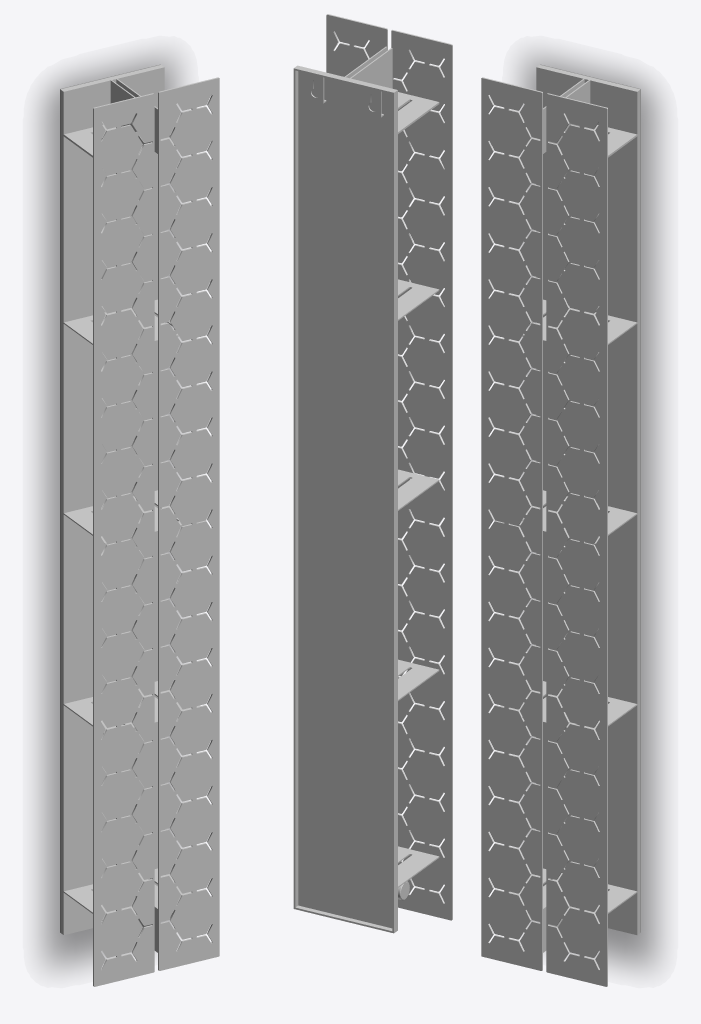
The model's file is bee-prima.3b85214e39.ar.glb.
The picture shows the model from 3 angles, left to right: view 1: azimuth 30°, elevation 25°; view 2: azimuth 150°, elevation 25°; view 3: azimuth 330°, elevation 25°; orthographic projection.
Visible parts, largest first — view 1: NAUO1, object 2; view 2: NAUO1; view 3: NAUO1, object 2.
Boxes of the visible parts, <box> form: NAUO1: <box>60,64,219,986</box>; object 2: <box>39,54,181,969</box>; NAUO1: <box>293,14,452,933</box>; NAUO1: <box>481,64,640,986</box>; object 2: <box>519,54,661,969</box>.
Bounding box in the file's own units: 0.23 × 1.08 × 0.096.
Materials: 2 (1 with a texture image).
